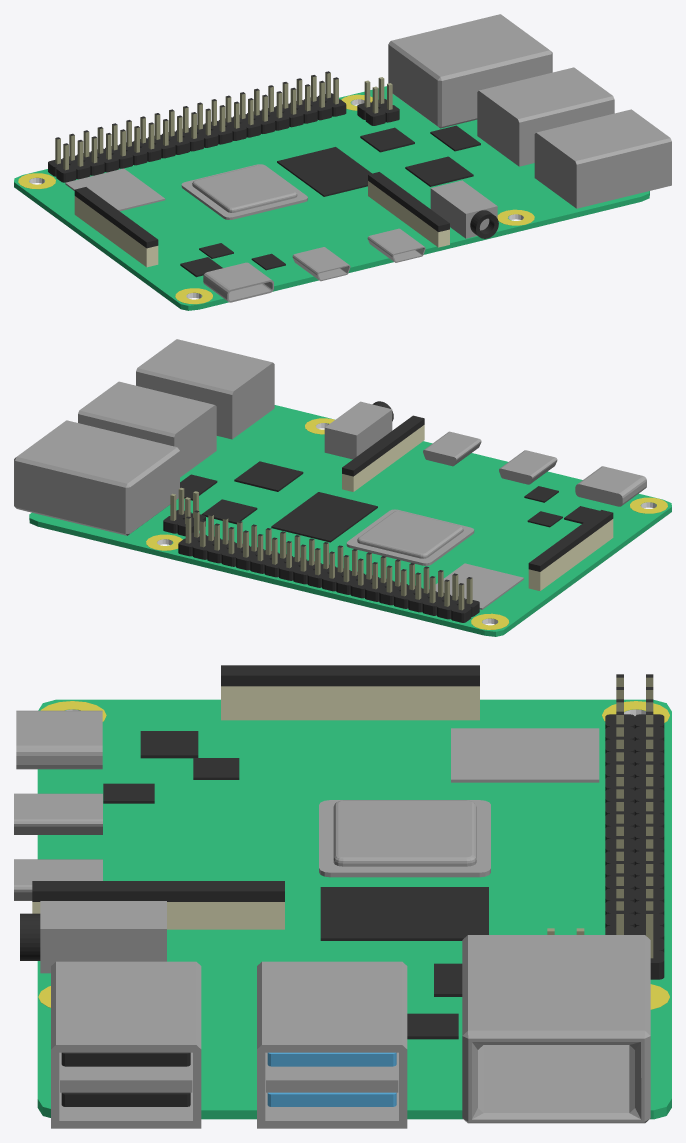
Rendered from raspberry_pi.glb.
3 views of the same model, one above another, from view 1: azimuth 30°, elevation 25°; view 2: azimuth 150°, elevation 25°; view 3: azimuth 270°, elevation 25° (orthographic). The views are drawn at different scales.
Parts seen in each view (by area): view 1: Plane_2, Plane.001_3, Plane.002_4, Plane.004_6, Plane.003_5, Plane.011_13, Plane.012_14, Plane.020_22, Plane.006_8, Plane.019_21, Plane.005_7, Plane.013_15 (+8 smaller); view 2: Plane_2, Plane.002_4, Plane.001_3, Plane.004_6, Plane.003_5, Plane.011_13, Plane.012_14, Plane.006_8, Plane.020_22, Plane.019_21, Plane.013_15, Plane.005_7 (+7 smaller); view 3: Plane_2, Plane.002_4, Plane.003_5, Plane.004_6, Plane.001_3, Plane.012_14, Plane.011_13, Plane.006_8, Plane.020_22, Plane.019_21, Plane.005_7, Plane.013_15 (+8 smaller).
Part boxes in pixels (left/top/right/bottom): Plane_2: left=14, top=86, right=649, bottom=310; Plane.001_3: left=48, top=71, right=346, bottom=182; Plane.002_4: left=388, top=14, right=552, bottom=128; Plane.004_6: left=534, top=109, right=671, bottom=208; Plane.003_5: left=477, top=67, right=614, bottom=166; Plane.011_13: left=181, top=164, right=307, bottom=219; Plane.012_14: left=74, top=187, right=158, bottom=267; Plane.020_22: left=430, top=180, right=498, bottom=238; Plane.006_8: left=277, top=147, right=371, bottom=196; Plane.019_21: left=368, top=172, right=449, bottom=247; Plane.005_7: left=65, top=168, right=165, bottom=211; Plane.013_15: left=203, top=262, right=273, bottom=302; Plane_2: left=29, top=405, right=671, bottom=636; Plane.002_4: left=14, top=420, right=179, bottom=535; Plane.001_3: left=178, top=510, right=479, bottom=622; Plane.004_6: left=136, top=339, right=274, bottom=439; Plane.003_5: left=78, top=381, right=216, bottom=477; Plane.011_13: left=346, top=509, right=474, bottom=565; Plane.012_14: left=528, top=510, right=613, bottom=590; Plane.006_8: left=271, top=492, right=377, bottom=542; Plane.020_22: left=324, top=401, right=393, bottom=459; Plane.019_21: left=342, top=415, right=424, bottom=491; Plane.013_15: left=575, top=466, right=646, bottom=506; Plane.005_7: left=435, top=563, right=523, bottom=609; Plane_2: left=37, top=699, right=671, bottom=1119; Plane.002_4: left=462, top=935, right=650, bottom=1123; Plane.003_5: left=257, top=961, right=407, bottom=1128; Plane.004_6: left=51, top=961, right=201, bottom=1128; Plane.001_3: left=605, top=674, right=664, bottom=979; Plane.012_14: left=221, top=665, right=479, bottom=720; Plane.011_13: left=319, top=800, right=490, bottom=877; Plane.006_8: left=320, top=887, right=488, bottom=940; Plane.020_22: left=20, top=901, right=166, bottom=973; Plane.019_21: left=32, top=881, right=284, bottom=929; Plane.005_7: left=451, top=728, right=599, bottom=782; Plane.013_15: left=16, top=710, right=102, bottom=769.
Bounding box in the file's own units: 2.42 × 0.2684 × 1.57.
